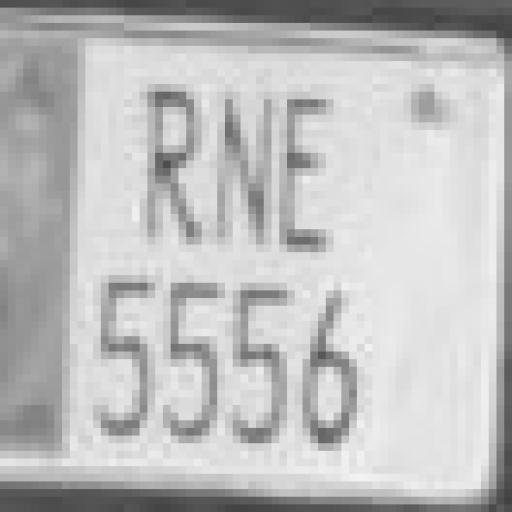5: (223, 273, 292, 458), (165, 278, 222, 462), (95, 273, 150, 447)
6: (290, 278, 371, 476)
E: (287, 90, 336, 252)
N: (214, 84, 275, 256)
R: (138, 77, 198, 255)
